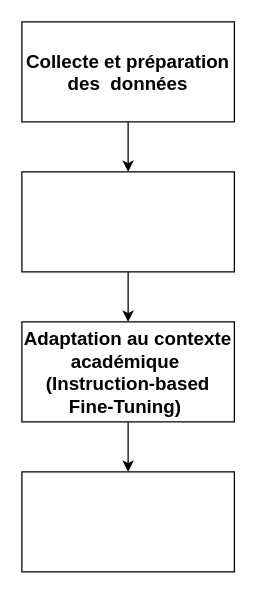
Image size: 256x594. Some labels were removed from this diagram. The shapes that lost their labels are listed below. From the top down, each one's centre as x and y in pixels, then its label:
At point 127,221: "Choix de l’architecture du modèle (GPT-like, Transformer)".
At point 127,521: "Modèle final RedactoSci (LLM spécialisé)".
